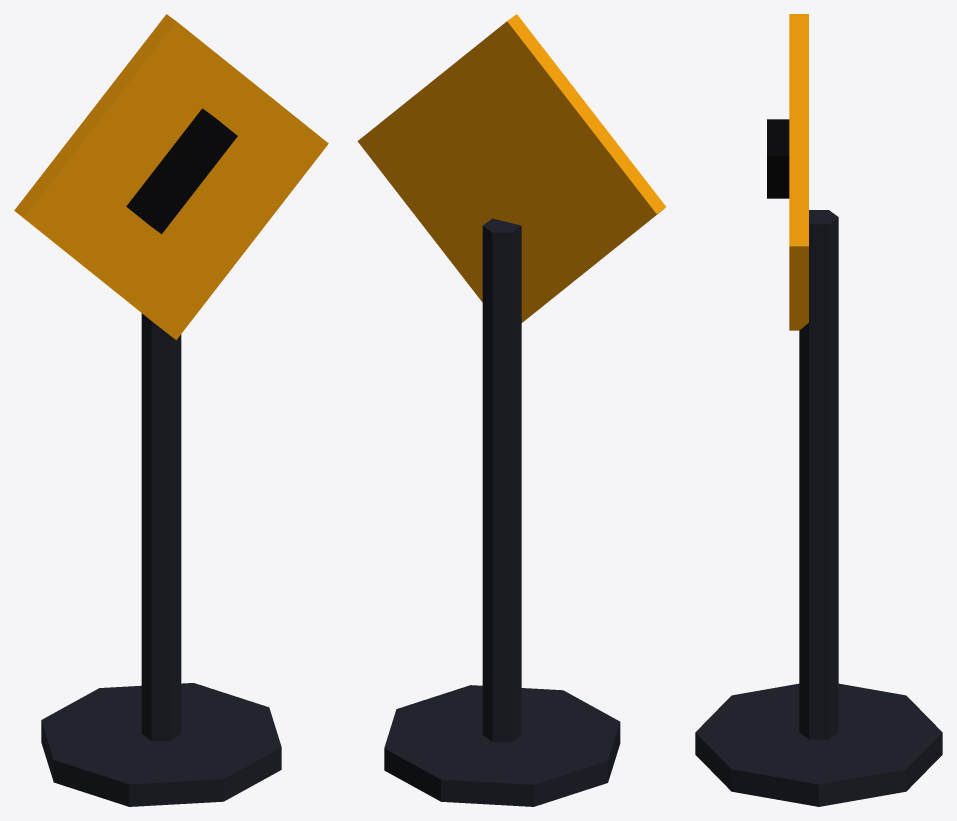
Rendered from warning_sign.obj.
3 views of the same model, side by side, from view 1: azimuth 30°, elevation 25°; view 2: azimuth 150°, elevation 25°; view 3: azimuth 270°, elevation 25° (orthographic).
Visible parts, largest first — view 1: warning_sign; view 2: warning_sign; view 3: warning_sign.
Boxes of the visible parts, x1,y1,x2,y2 form: warning_sign: (14, 14, 328, 806); warning_sign: (357, 14, 665, 806); warning_sign: (695, 14, 942, 806).
Bounding box in the file's own units: 0.7071 × 1.65 × 0.5.
